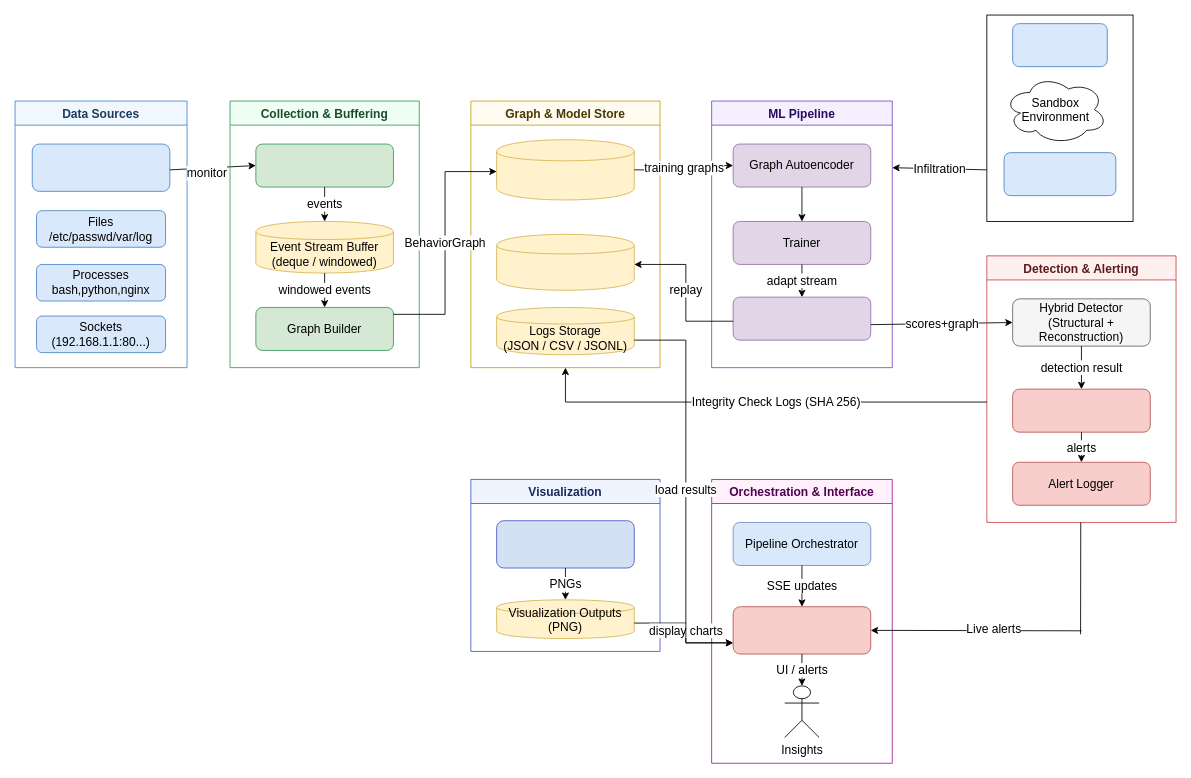
Some shapes in this 1191 by 778 pixel diagram are drawn without their labels. The shapes that lost their labels are listed below. From the top down, each one's centre as x and y in pixels, then its label:
(1059,45): Real Time Attack
(100,167): System Activity
(324,165): Real-Time Collector
(565,169): Behavior Graph Store (windowed heterogeneous)
(1059,174): Attack Executor
(565,261): Replay Memory (bounded graph buffer)
(801,318): Continual Learner
(1081,410): Alert Manager
(565,544): Graph Visualizer + Metrics Plots
(801,630): Web Dashboard (Flask + SSE)
